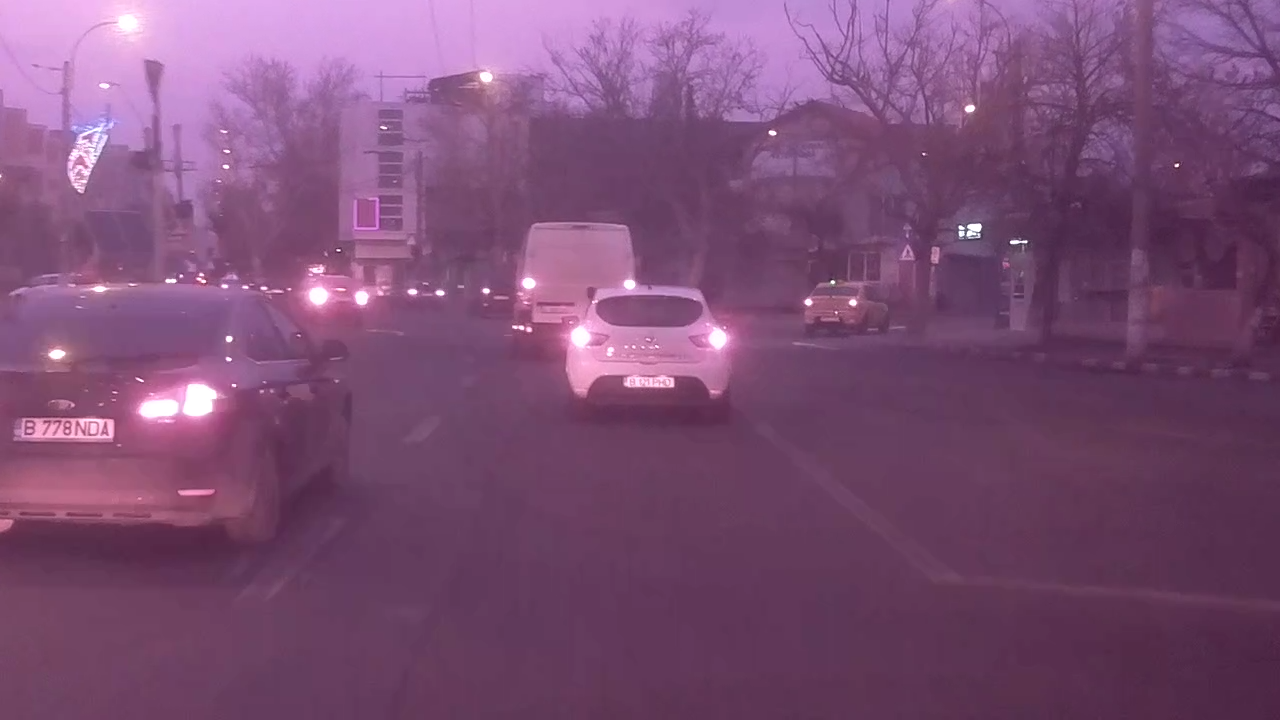license-plate: (7, 414, 119, 445), (618, 372, 677, 390)
